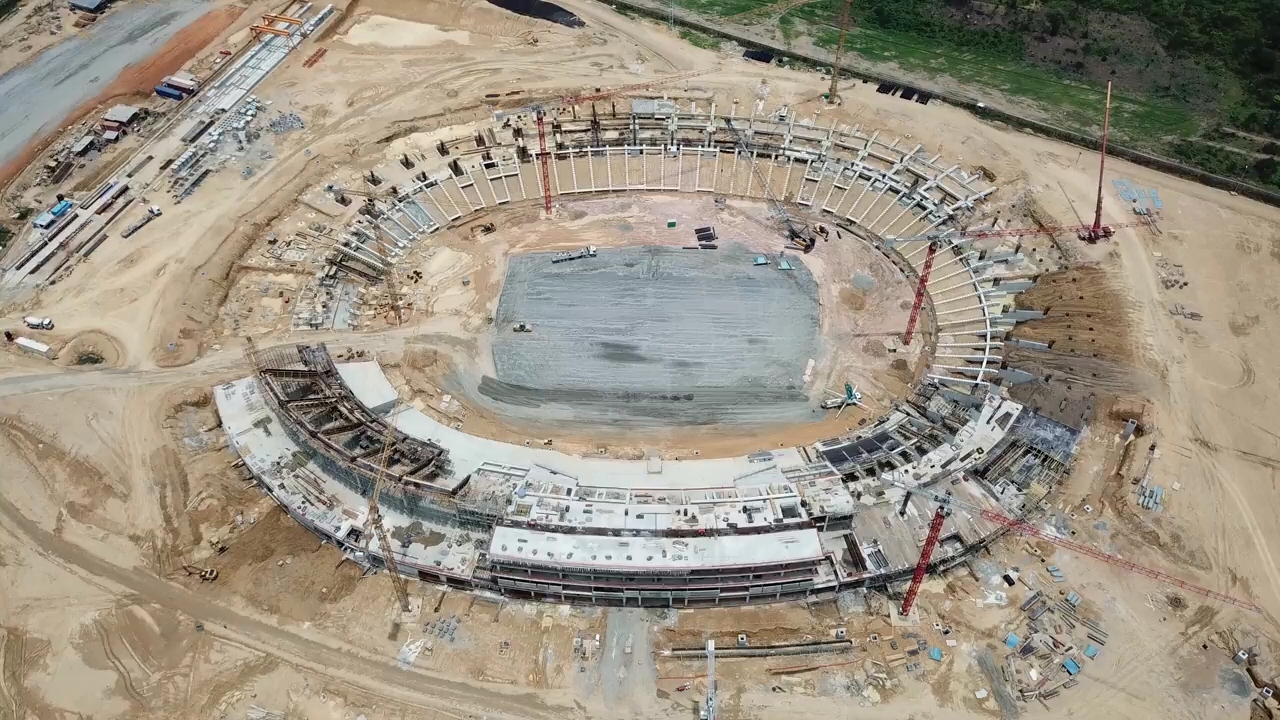ismakinesi: (177, 558, 220, 587)
kamyon: (119, 203, 164, 243), (552, 241, 600, 267), (22, 309, 58, 332)
